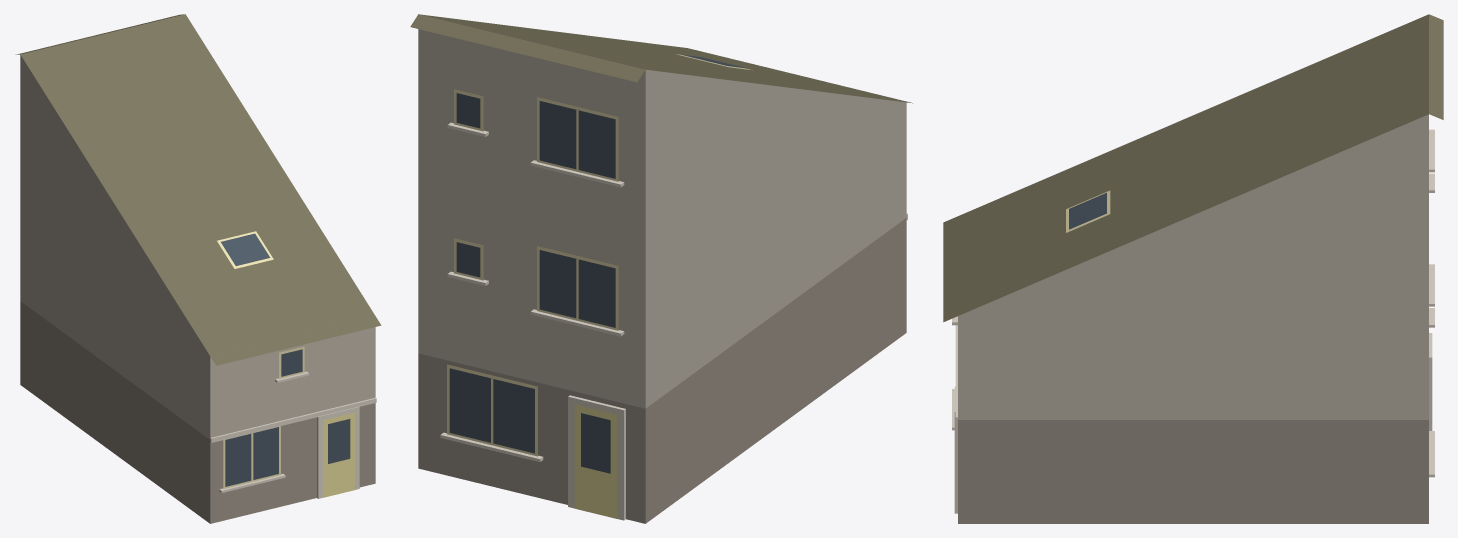
Rendered from nd-ck-saltbox__yellow__2__gable__long__solid__mirror.glb.
3 views of the same model, side by side, from view 1: azimuth 30°, elevation 25°; view 2: azimuth 150°, elevation 25°; view 3: azimuth 270°, elevation 25° (orthographic). The views are drawn at different scales.
Visible parts, largest first — view 1: nd-ck-saltbox__yellow__2__gable__long__solid__mirror; view 2: nd-ck-saltbox__yellow__2__gable__long__solid__mirror; view 3: nd-ck-saltbox__yellow__2__gable__long__solid__mirror.
Boxes of the visible parts, bbox=[...] form: nd-ck-saltbox__yellow__2__gable__long__solid__mirror: bbox=[15, 14, 381, 523]; nd-ck-saltbox__yellow__2__gable__long__solid__mirror: bbox=[410, 14, 912, 523]; nd-ck-saltbox__yellow__2__gable__long__solid__mirror: bbox=[943, 14, 1443, 523].
Bounding box in the file's own units: 4.78 × 9.15 × 10.12.
